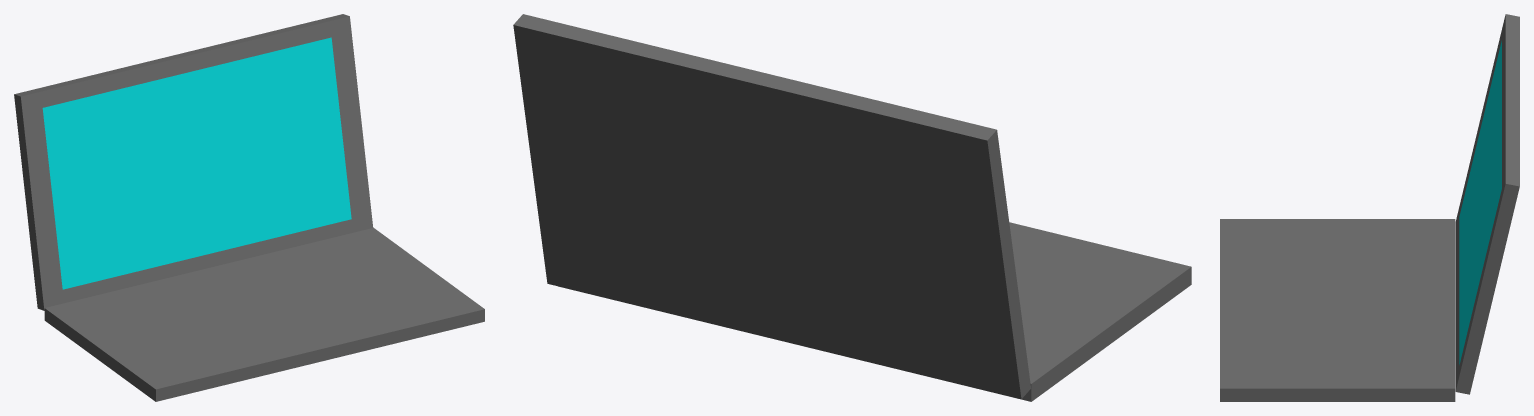
The picture shows the model from 3 angles, left to right: view 1: azimuth 30°, elevation 25°; view 2: azimuth 150°, elevation 25°; view 3: azimuth 270°, elevation 25°; orthographic projection. The views are drawn at different scales.
Visible parts, largest first — view 1: 本.018; view 2: 本.018; view 3: 本.018.
Boxes of the visible parts, x1,y1,x2,y2 form: 本.018: (14, 14, 484, 401); 本.018: (513, 14, 1191, 401); 本.018: (1220, 14, 1519, 401).
Bounding box in the file's own units: 0.8861 × 0.5313 × 0.6614.
